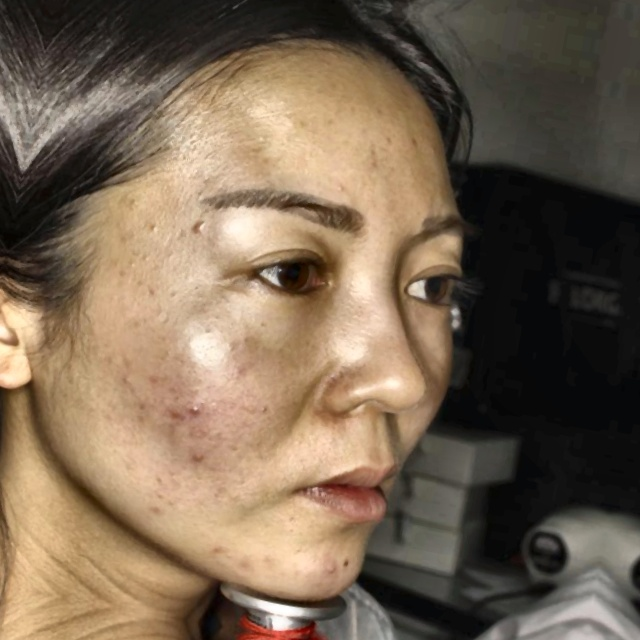comedone: (181, 443, 221, 487), (172, 396, 215, 427), (228, 551, 259, 584), (321, 555, 348, 587)
